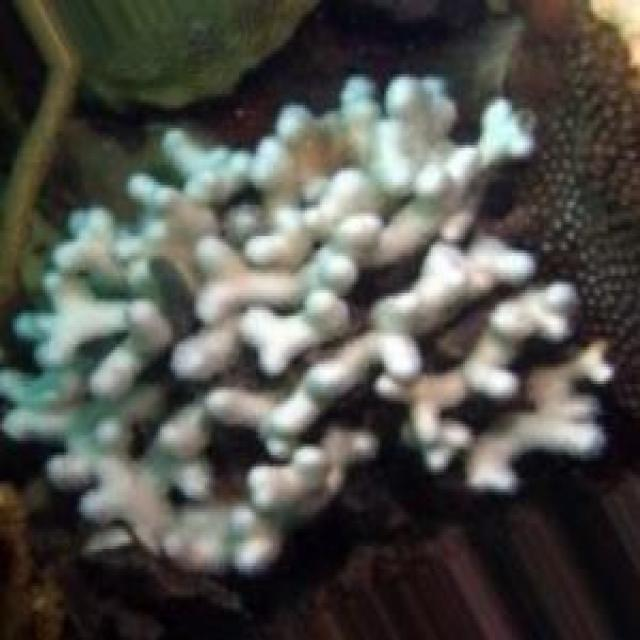Bleached: (1, 78, 613, 573)
